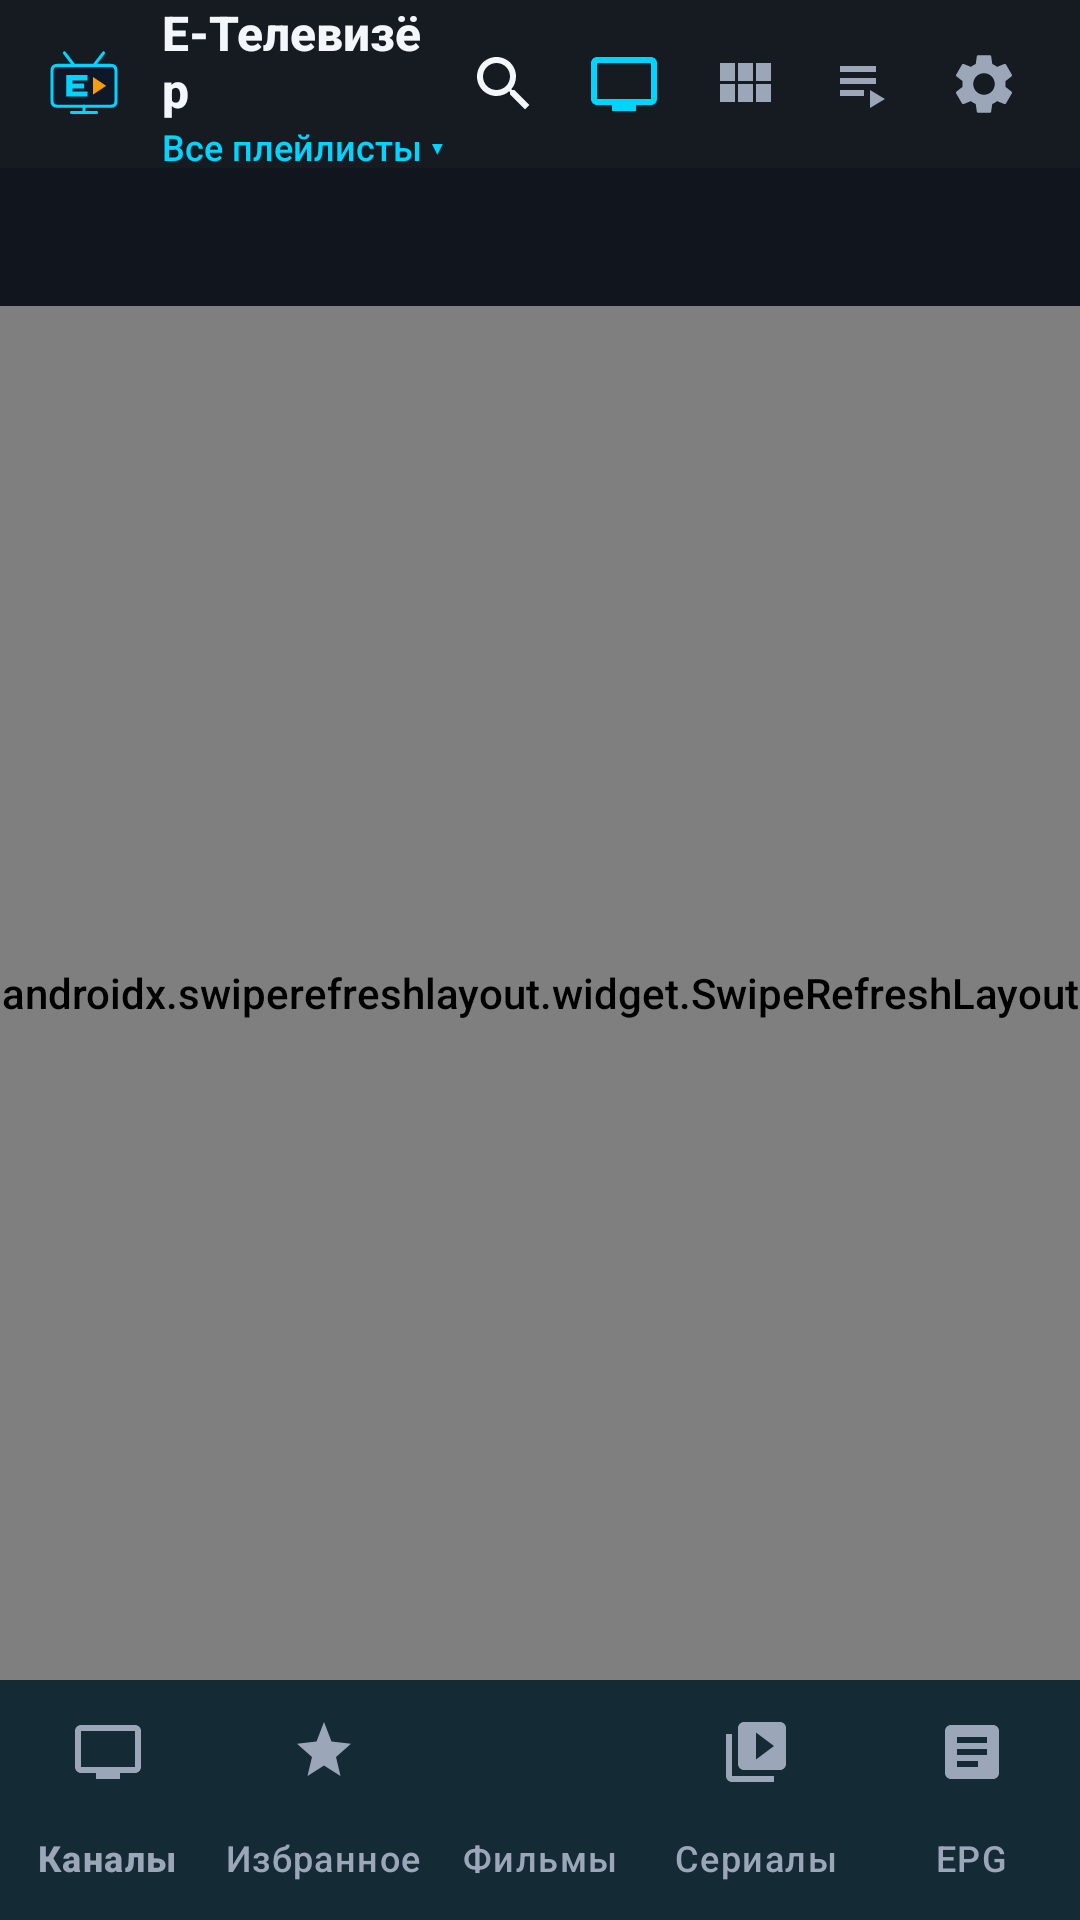

Named icons in this screenshot (1080 x 1920) and their bounding boxes, (x1, y1, x2, y2):
Вид: (720, 63, 771, 102)
Настройки: (956, 55, 1012, 113)
Плейлисты: (840, 66, 885, 108)
Поиск: (477, 57, 529, 109)
